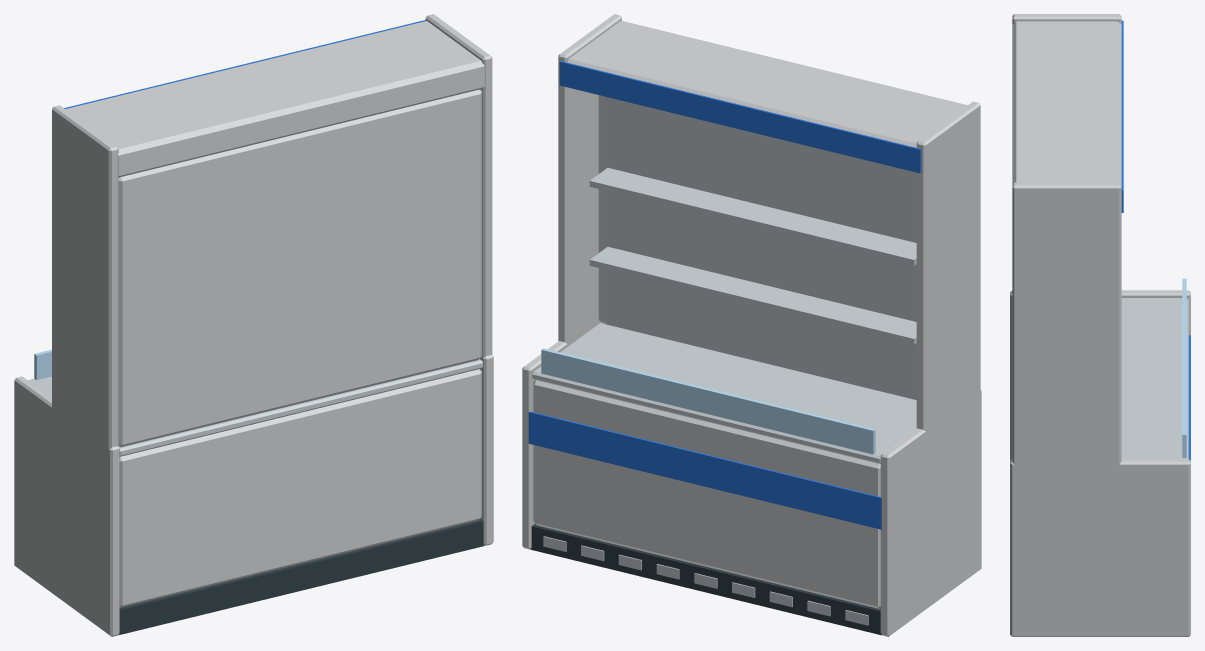
File: Buzdolabi.fbx
3 views of the same model, side by side, from view 1: azimuth 30°, elevation 25°; view 2: azimuth 150°, elevation 25°; view 3: azimuth 270°, elevation 25° (orthographic). The views are drawn at different scales.
Parts seen in each view (by area): view 1: Buzdolabi; view 2: Buzdolabi; view 3: Buzdolabi.
Part boxes in pixels (bbox=[...]): Buzdolabi: bbox=[14, 14, 493, 636]; Buzdolabi: bbox=[522, 14, 981, 636]; Buzdolabi: bbox=[1010, 14, 1190, 636].
Bounding box in the file's own units: 195 × 237 × 86.
